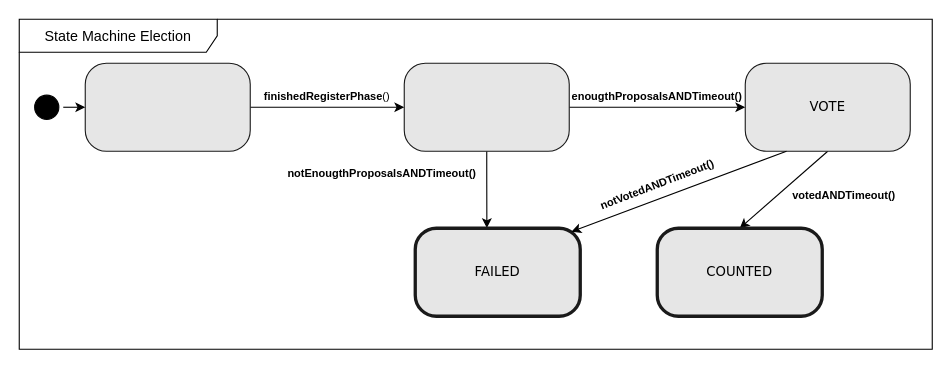
This 952x369 diagram has some shape labels left out. The centre of each missing label's shape, as x and y in pixels:
"PROPOSE" belongs at (x=486, y=106).
"REGISTER" belongs at (x=167, y=106).
